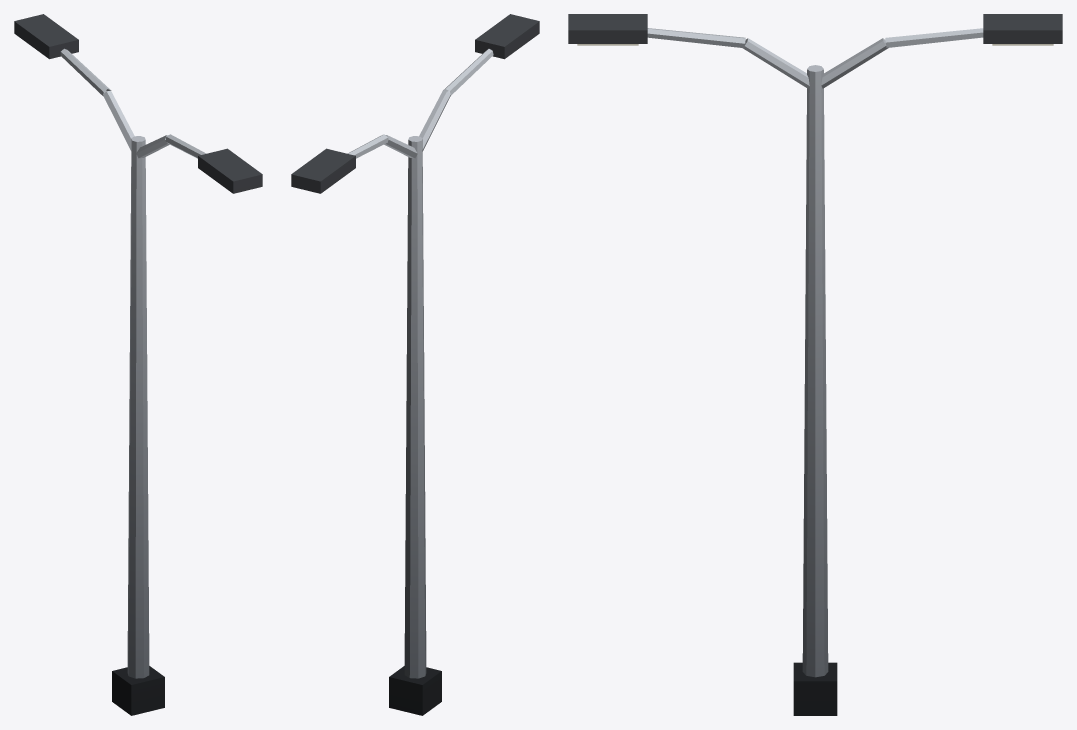
File: StreetLightDouble.fbx
3 views of the same model, side by side, from view 1: azimuth 30°, elevation 25°; view 2: azimuth 150°, elevation 25°; view 3: azimuth 270°, elevation 25° (orthographic). The views are drawn at different scales.
Parts seen in each view (by area): view 1: StreetLightDouble_LOD0; view 2: StreetLightDouble_LOD0; view 3: StreetLightDouble_LOD0.
Boxes of the visible parts, x1,y1,x2,y2 form: StreetLightDouble_LOD0: [14, 14, 262, 715]; StreetLightDouble_LOD0: [291, 14, 539, 715]; StreetLightDouble_LOD0: [568, 14, 1062, 715].
Bounding box in the file's own units: 0.0378 × 0.6556 × 0.4289.
1 material, 1 textured.
